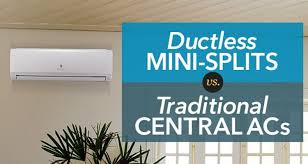ac: (6, 45, 115, 83)
